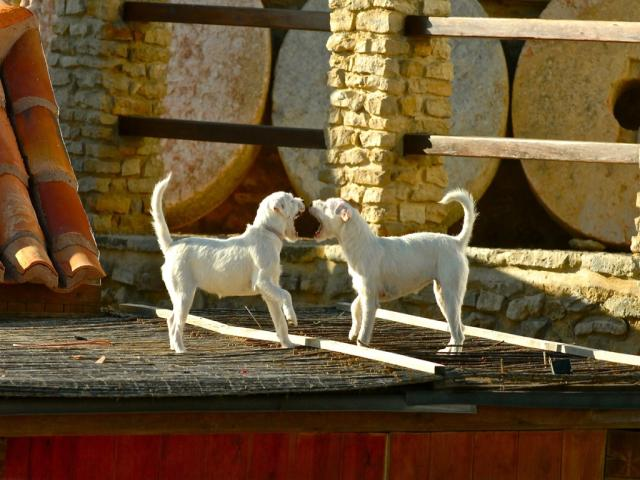Dog: (305, 189, 481, 356), (148, 169, 304, 351)
